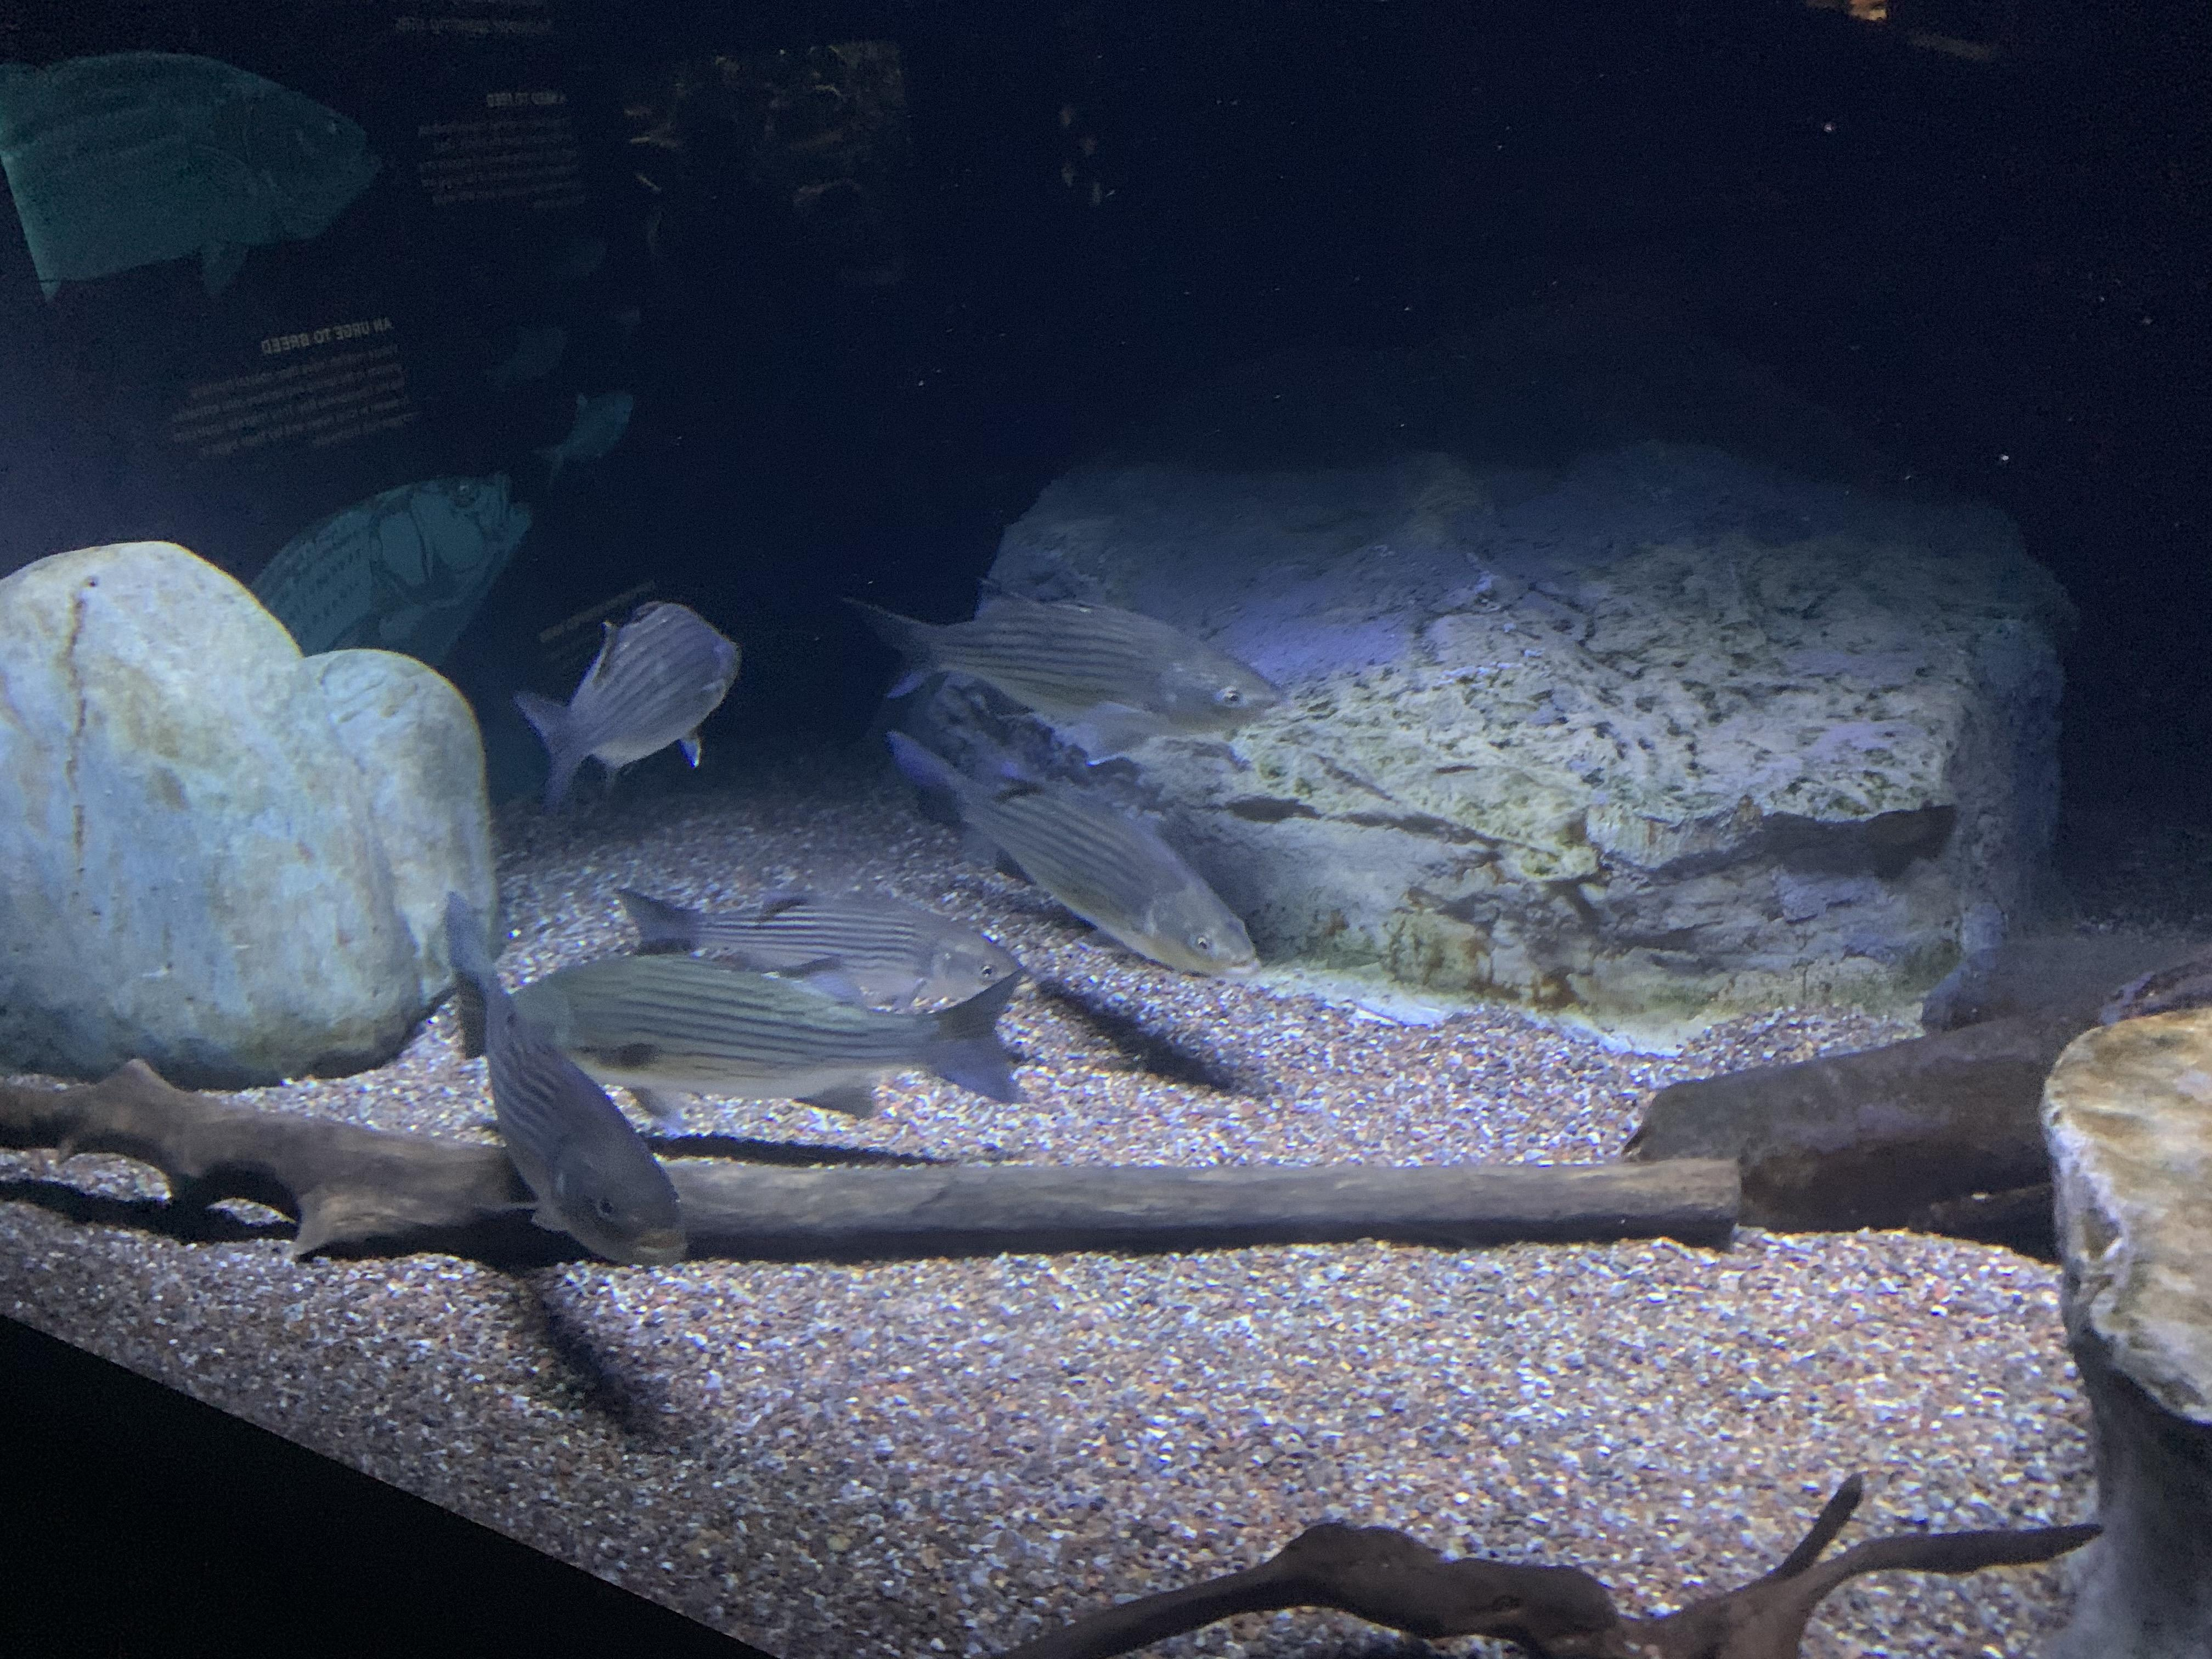fish: (876, 704, 1263, 986), (496, 938, 1033, 1131), (428, 903, 697, 1281), (841, 572, 1298, 744), (608, 870, 1028, 1023), (507, 594, 752, 809)
